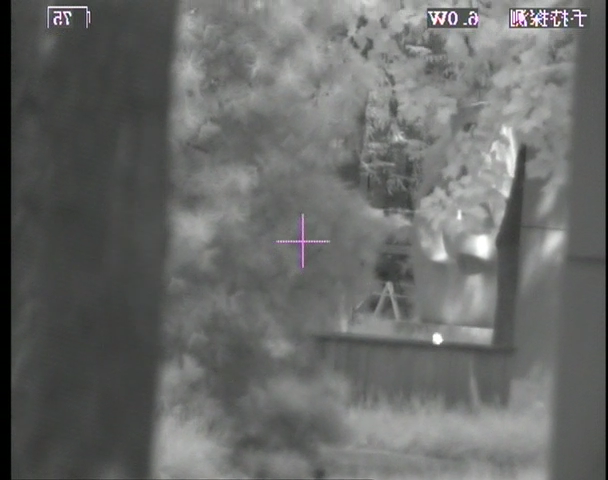my: (430, 331, 443, 345)
